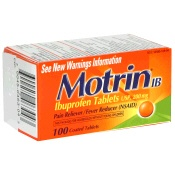grozi_18: (3, 33, 172, 141)
